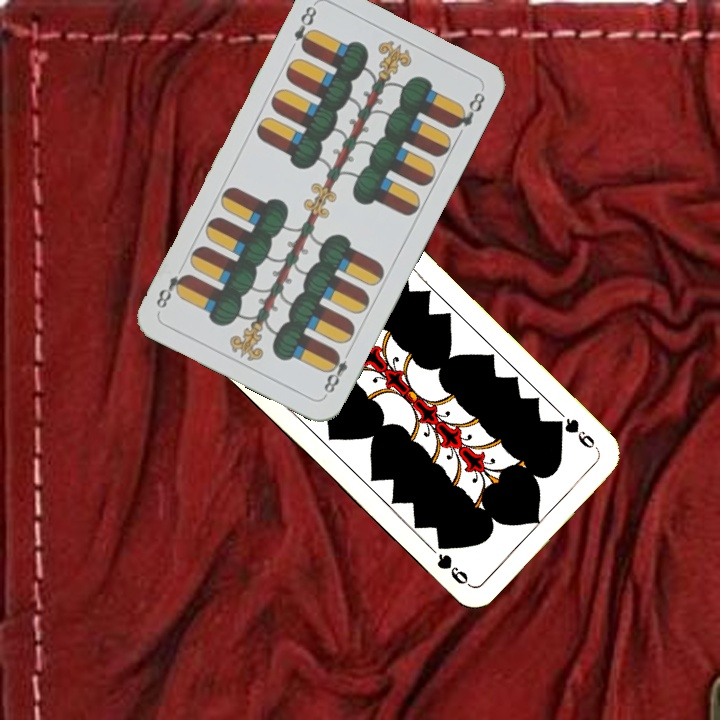E8: (319, 345, 354, 399), (289, 1, 320, 55)
G9: (550, 414, 602, 454)
